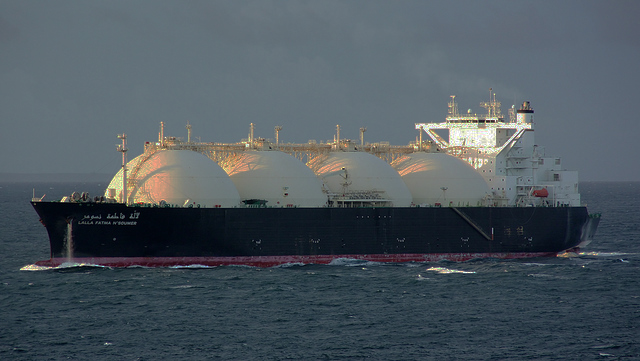LNG_ship: (29, 90, 602, 261)
